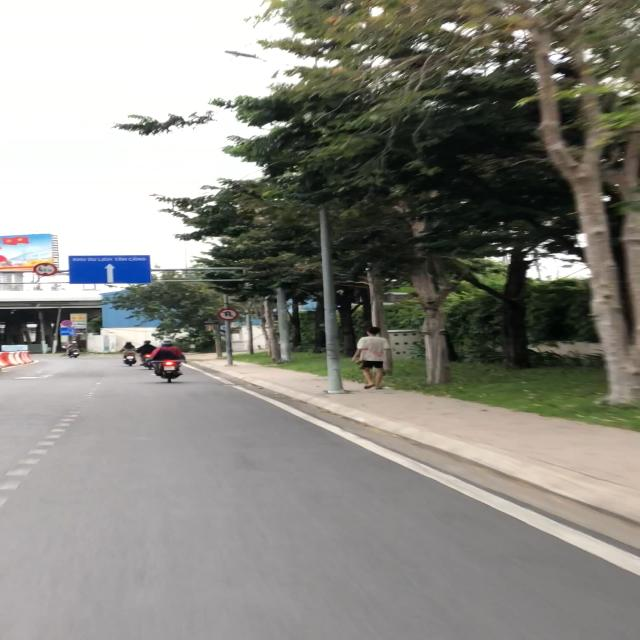Bien bao cam quay dau xe: (217, 307, 240, 321)
Bien bao han che chieu cao: (32, 261, 59, 277)
